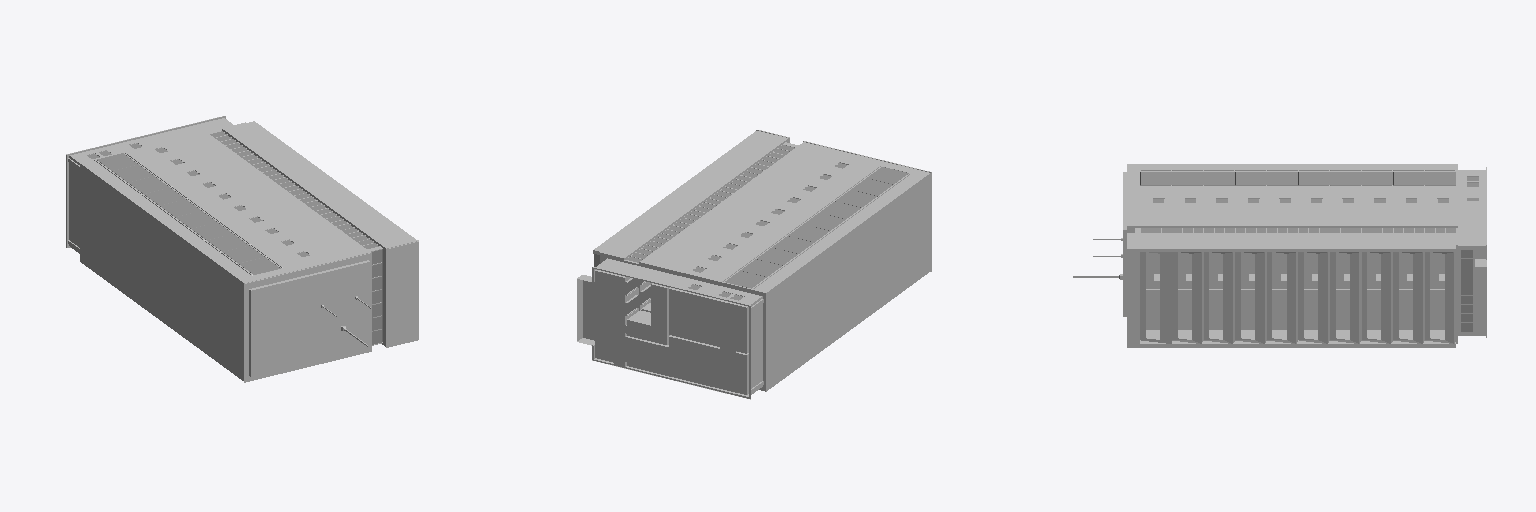
File: Building6.obj
3 renders of one model, left to right at view 1: azimuth 30°, elevation 25°; view 2: azimuth 150°, elevation 25°; view 3: azimuth 270°, elevation 25°, orthographic.
Visible parts, largest first — view 1: Residential_Buildings_006_Cube.014; view 2: Residential_Buildings_006_Cube.014; view 3: Residential_Buildings_006_Cube.014.
Boxes of the visible parts, x1,y1,x2,y2 form: Residential_Buildings_006_Cube.014: [66, 116, 418, 382]; Residential_Buildings_006_Cube.014: [577, 130, 931, 399]; Residential_Buildings_006_Cube.014: [1073, 164, 1486, 347].
Size of the model in its own units: 23.1 by 12.59 by 47.19.